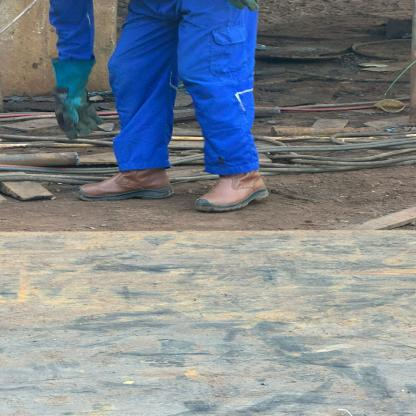bota: (184, 169, 279, 210), (71, 168, 178, 201)
